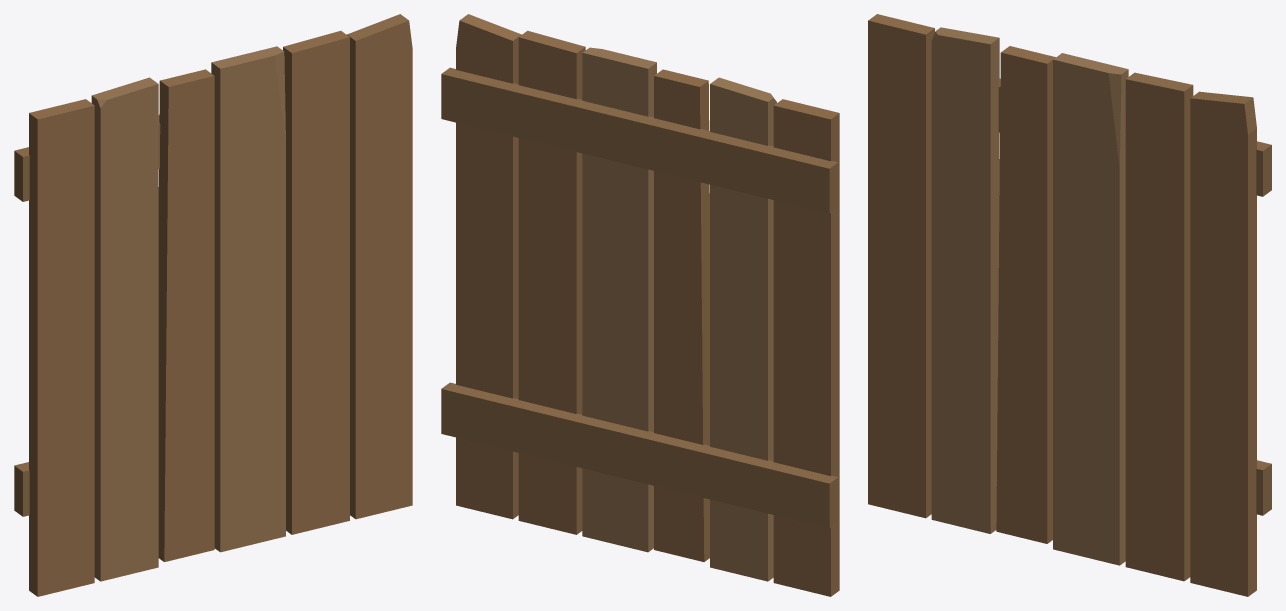
File: Fence_01.fbx
3 views of the same model, side by side, from view 1: azimuth 30°, elevation 25°; view 2: azimuth 150°, elevation 25°; view 3: azimuth 330°, elevation 25° (orthographic).
Visible parts, largest first — view 1: Fence_01; view 2: Fence_01; view 3: Fence_01.
Part boxes in pixels (left/top/right/bottom): Fence_01: left=14, top=14, right=412, bottom=596; Fence_01: left=441, top=14, right=839, bottom=596; Fence_01: left=868, top=14, right=1271, bottom=596.
Size of the model in its own units: 102 by 122 by 7.66.
